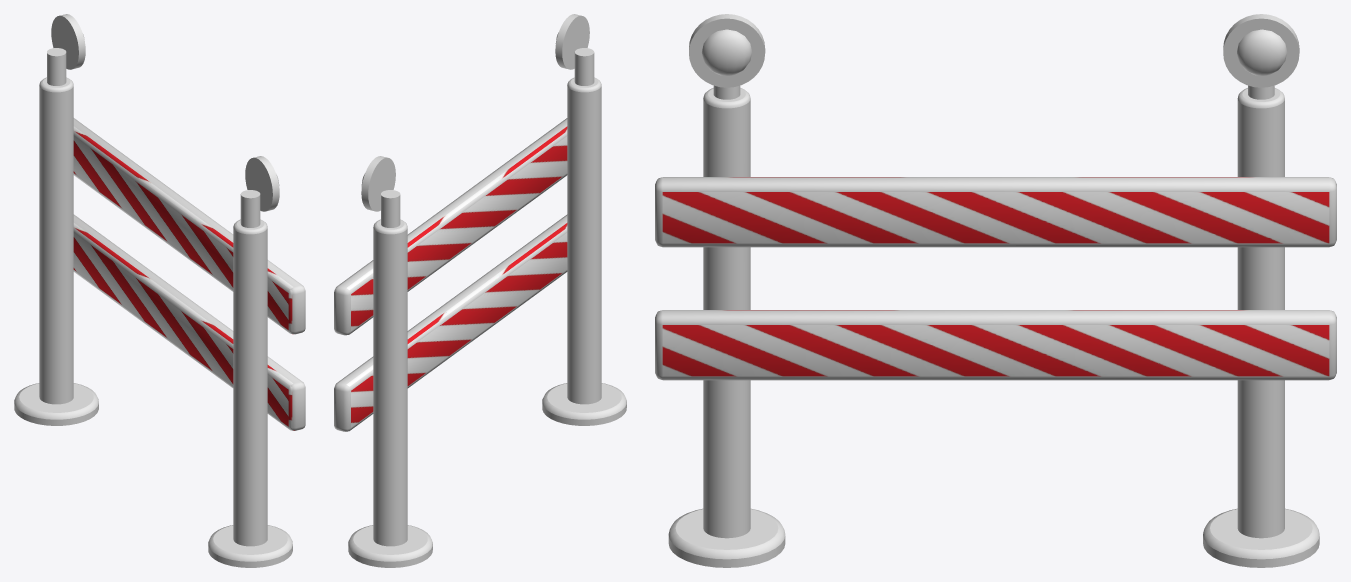
The model's file is valla.fbx.
3 views of the same model, side by side, from view 1: azimuth 30°, elevation 25°; view 2: azimuth 150°, elevation 25°; view 3: azimuth 270°, elevation 25° (orthographic). The views are drawn at different scales.
Parts seen in each view (by area): view 1: Cylinder.004, Cylinder.005, Cube.028, Cube.018, Cylinder.007, Cylinder.006, Cylinder.009, Cylinder.008; view 2: Cylinder.004, Cylinder.005, Cube.028, Cube.018, Cylinder.006, Cylinder.007, Cylinder.008, Cylinder.009; view 3: Cube.018, Cube.028, Cylinder.004, Cylinder.005, Cylinder.006, Cylinder.007, Cylinder.009, Cylinder.008, Sphere, Sphere.001.
Part boxes in pixels (x1,y1,x2,y2): Cylinder.004: (233, 190, 267, 546); Cylinder.005: (39, 48, 73, 404); Cube.028: (73, 214, 305, 430); Cube.018: (73, 118, 305, 334); Cylinder.007: (14, 383, 98, 425); Cylinder.006: (208, 525, 292, 567); Cylinder.009: (51, 14, 85, 69); Cylinder.008: (245, 156, 279, 211); Cylinder.004: (567, 48, 601, 404); Cylinder.005: (373, 190, 407, 546); Cube.028: (334, 214, 567, 431); Cube.018: (334, 118, 567, 335); Cylinder.006: (542, 383, 626, 425); Cylinder.007: (348, 525, 432, 567); Cylinder.008: (555, 14, 589, 69); Cylinder.009: (361, 156, 395, 211); Cube.018: (655, 177, 1336, 247); Cube.028: (655, 310, 1336, 380); Cylinder.004: (703, 85, 750, 538); Cylinder.005: (1237, 85, 1284, 538); Cylinder.006: (668, 508, 785, 567); Cylinder.007: (1203, 508, 1319, 567); Cylinder.009: (1223, 14, 1299, 87); Cylinder.008: (689, 14, 765, 87); Sphere: (702, 29, 752, 75); Sphere.001: (1237, 29, 1287, 75).
Size of the model in its own units: 39.52 by 199 by 230.
Materials: 2 (1 with a texture image).
